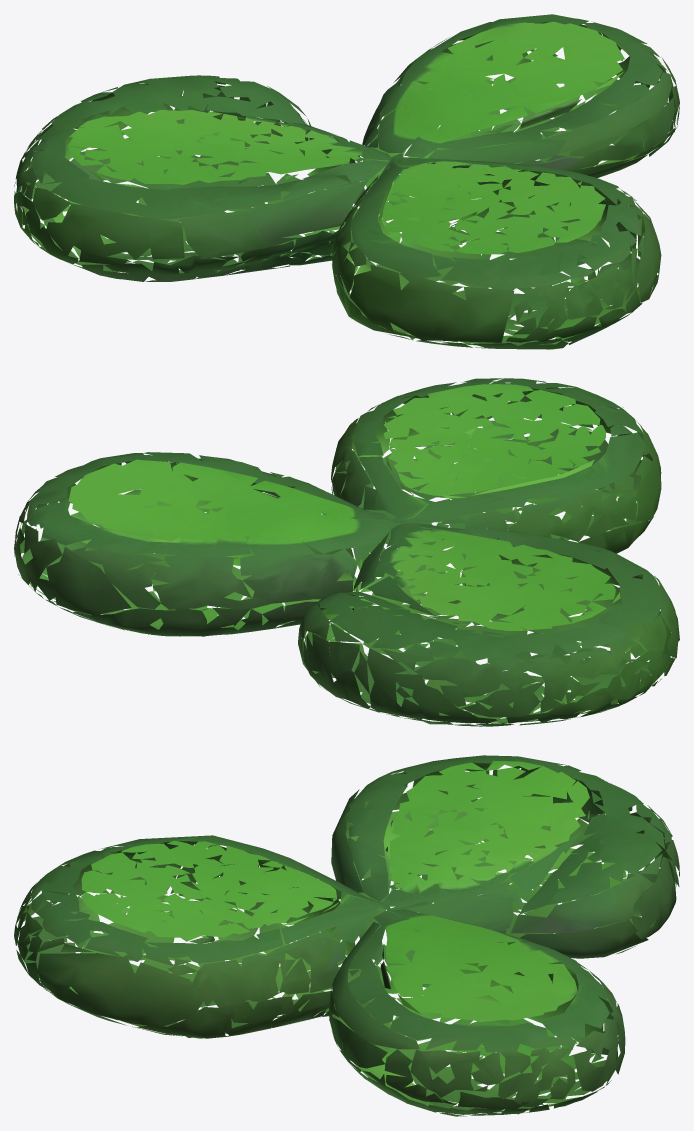
File: clover.glb
The picture shows the model from 3 angles, top to bottom: view 1: azimuth 30°, elevation 25°; view 2: azimuth 150°, elevation 25°; view 3: azimuth 270°, elevation 25°; orthographic projection.
Size of the model in its own units: 0.1501 by 0.0265 by 0.1371.
Materials: 1 (1 with a texture image).
